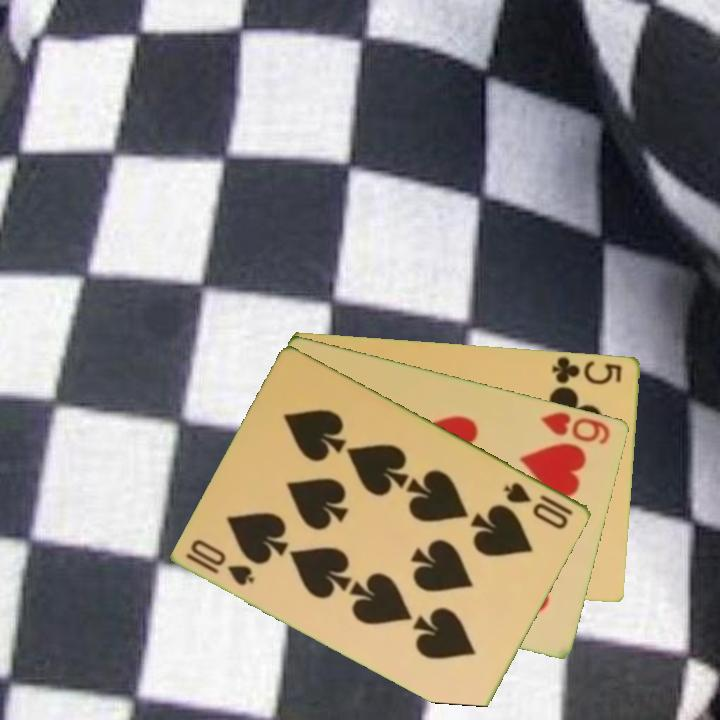10s: (501, 478, 577, 532), (183, 535, 258, 589)
5c: (548, 353, 625, 387)
6h: (537, 408, 613, 447)
